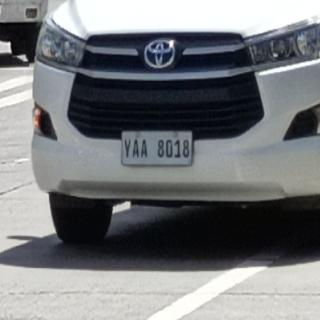license: (124, 132, 194, 165)
